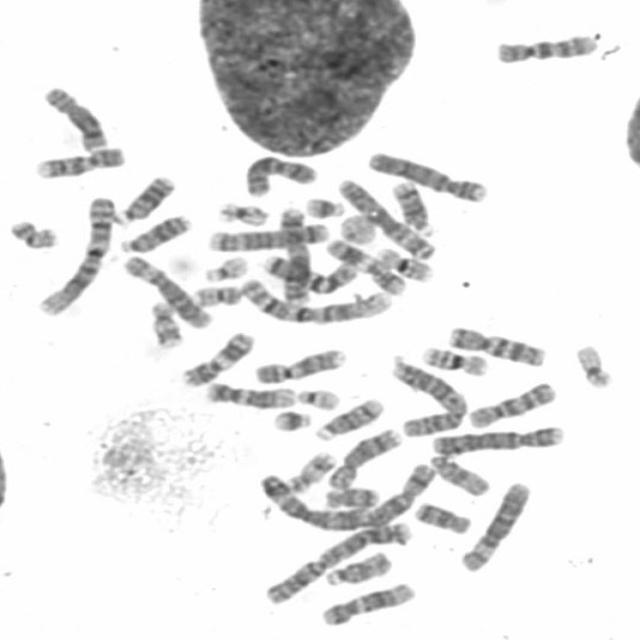A1: (31, 191, 118, 319), (236, 273, 394, 326)
A2: (260, 516, 414, 606), (385, 352, 467, 438)
A3: (255, 463, 439, 535), (334, 175, 436, 262)
B4: (362, 146, 491, 204), (428, 420, 568, 457)
B5: (202, 218, 334, 254), (273, 205, 313, 307)
C10: (464, 378, 558, 430), (490, 29, 599, 65)
C11: (320, 236, 406, 296), (175, 326, 255, 389)
C12: (314, 578, 417, 628), (200, 378, 297, 410)
C6: (456, 478, 534, 573), (119, 252, 213, 329)
C7: (442, 321, 549, 368), (256, 251, 358, 295)
C8: (322, 423, 405, 491), (38, 81, 112, 154)
C9: (249, 344, 348, 385), (30, 142, 129, 180)
D13: (108, 170, 177, 226), (115, 208, 194, 255)
D14: (312, 393, 386, 441), (387, 176, 435, 237)
D15: (319, 544, 397, 587), (424, 451, 493, 497)
E16: (371, 242, 436, 283), (417, 342, 489, 377)
E17: (279, 446, 337, 494), (145, 297, 186, 348)
E18: (409, 497, 472, 536), (320, 482, 381, 509)
F19: (571, 338, 617, 390), (211, 197, 272, 228)
F20: (4, 215, 60, 251), (189, 280, 246, 308)
G21: (266, 404, 315, 434), (300, 192, 348, 220)
G22: (199, 250, 252, 283), (292, 384, 343, 411)
X: (238, 150, 322, 198)
